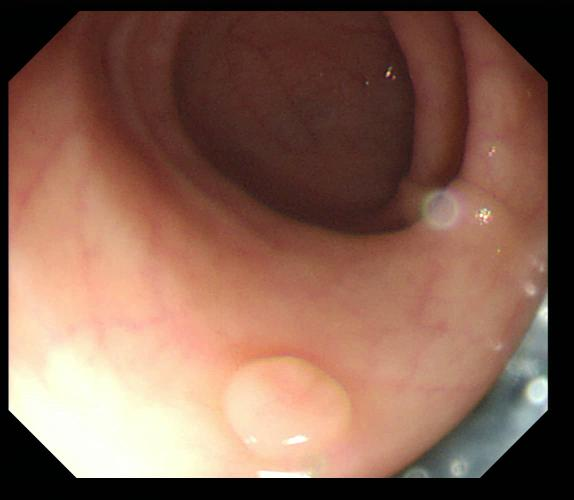polyp: (223, 356, 358, 459)
